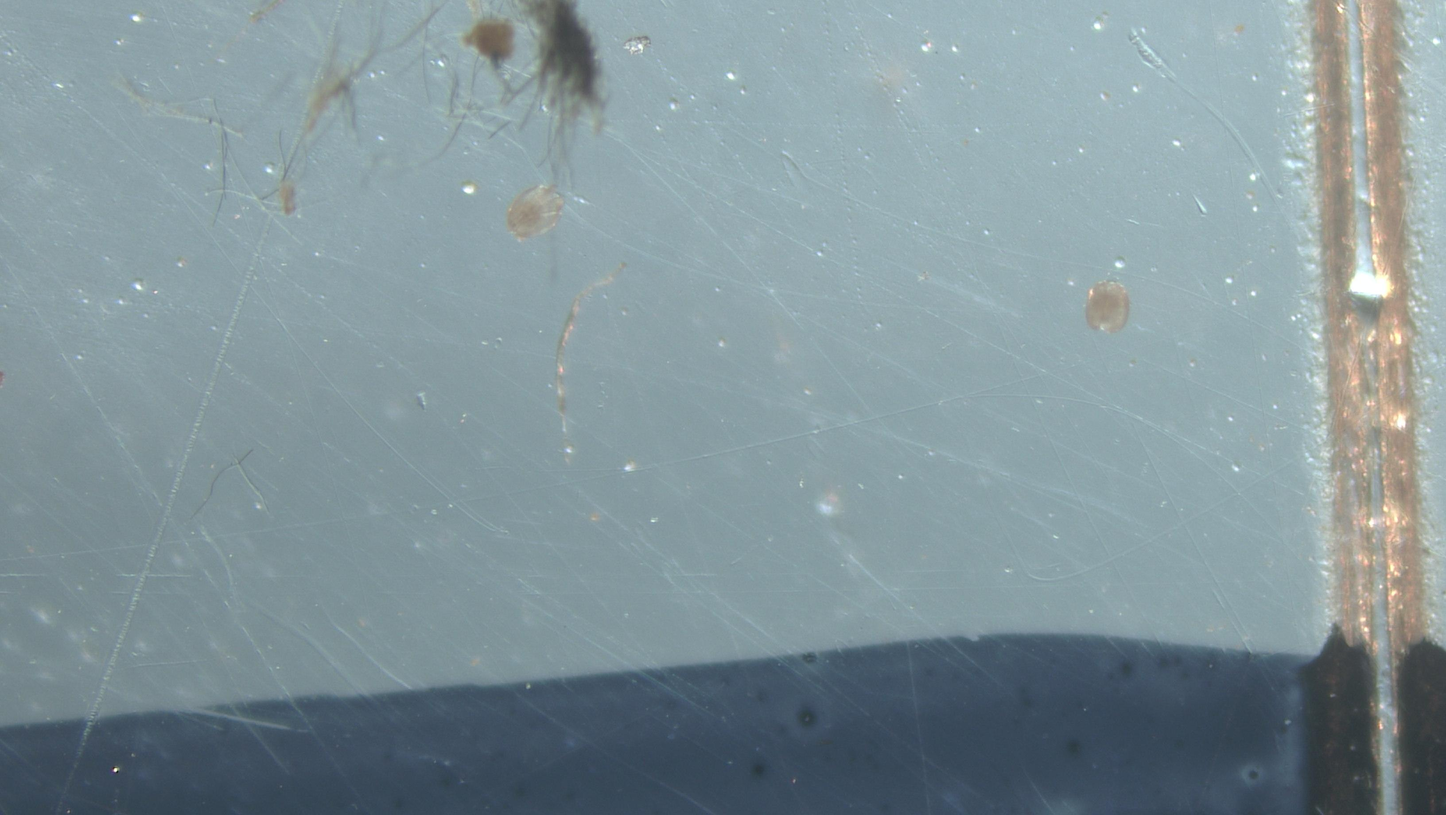live: (506, 185, 565, 241), (1085, 281, 1131, 334)
